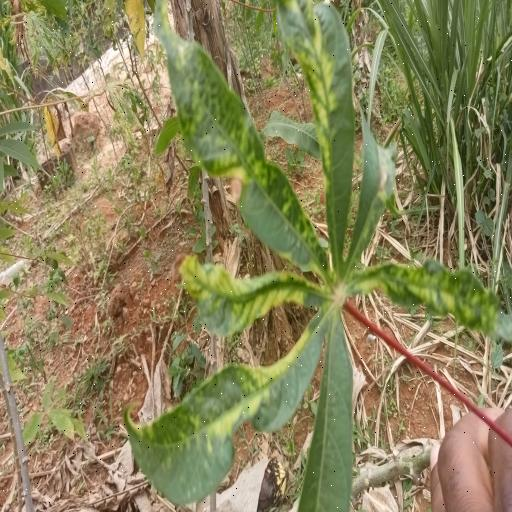Cassava_Root_Rot: (128, 0, 499, 512)
